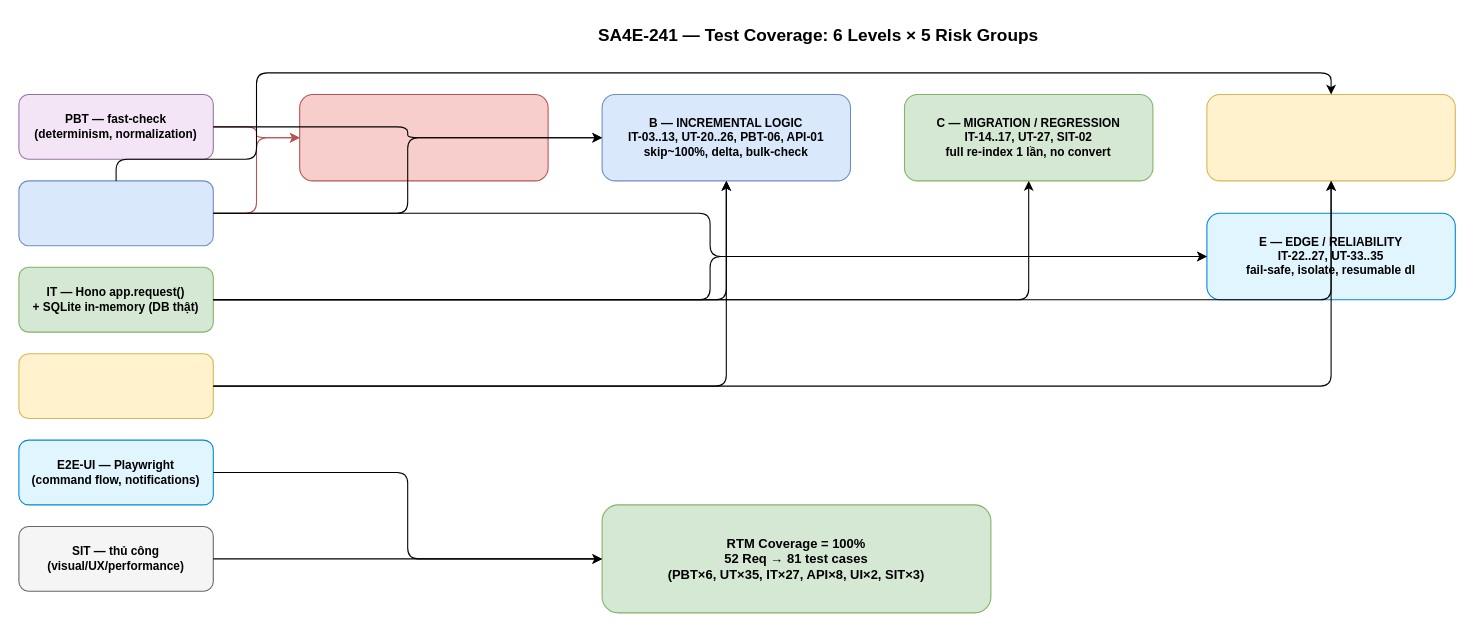
This 1474x632 diagram has some shape labels left out. The box of each missing label's shape, as (x1, y1, x2, y2) in pixels:
A — CHECKSUM CORRECTNESS PBT-01..06, UT-01..19 INV-1, BR-04, git-blob vector: (299, 93, 548, 181)
D — SECURITY API-02..08, IT-18..21, UT-28..32 401/403/400, isolation, zip-slip: (1206, 93, 1455, 181)
E2E-API — Hono full chain (jwtAuth, rateLimiter, zod): (18, 353, 213, 418)
UT — Vitest (strategy, classifier, parser, guards): (18, 180, 213, 246)
